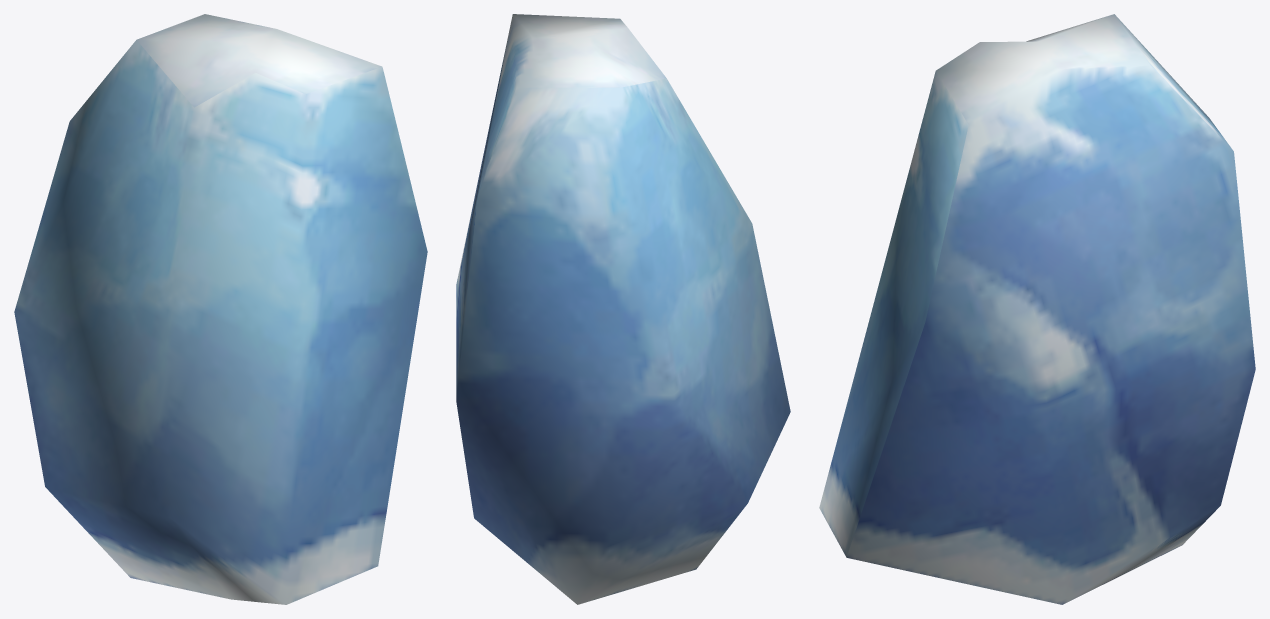
Rendered from SM_stoneA_05.fbx.
The picture shows the model from 3 angles, left to right: view 1: azimuth 30°, elevation 25°; view 2: azimuth 150°, elevation 25°; view 3: azimuth 270°, elevation 25°; orthographic projection. The views are drawn at different scales.
Parts seen in each view (by area): view 1: SM_stoneA_05; view 2: SM_stoneA_05; view 3: SM_stoneA_05.
Part boxes in pixels (x1,y1,x2,y2): SM_stoneA_05: (14,14,427,604); SM_stoneA_05: (456,14,790,604); SM_stoneA_05: (819,14,1255,604).
Bounding box in the file's own units: 4.19 × 6.52 × 4.82.
